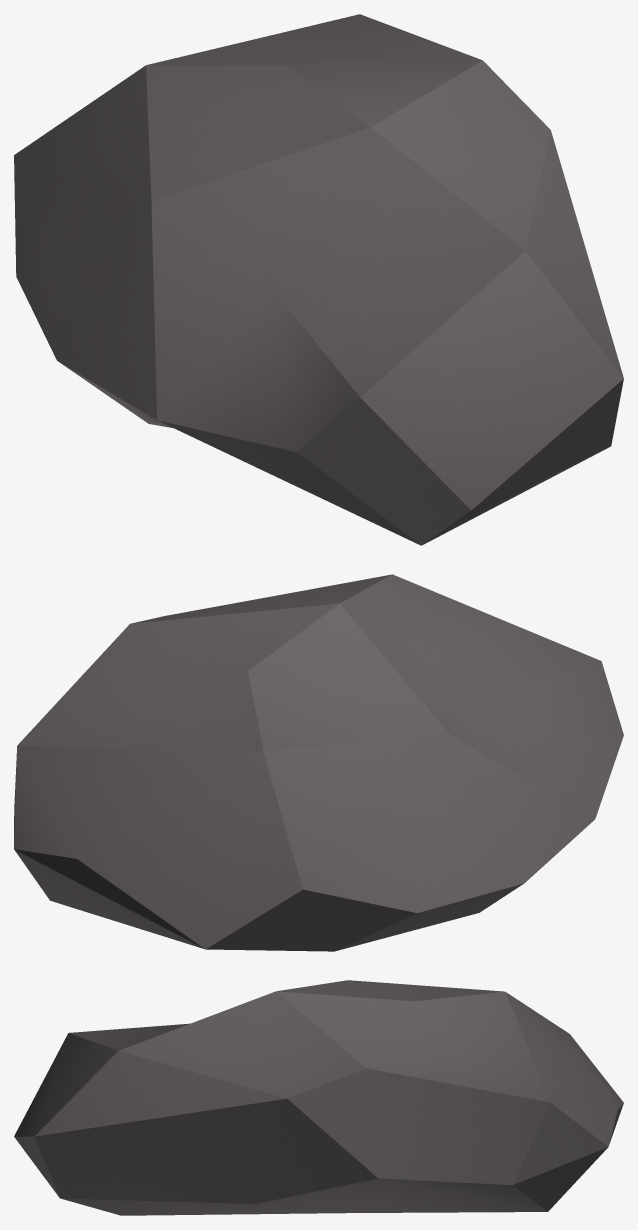
Rendered from Rocks06.fbx.
3 views of the same model, one above another, from view 1: azimuth 30°, elevation 25°; view 2: azimuth 150°, elevation 25°; view 3: azimuth 270°, elevation 25° (orthographic). The views are drawn at different scales.
Parts seen in each view (by area): view 1: Rock.006; view 2: Rock.006; view 3: Rock.006.
Boxes of the visible parts, x1,y1,x2,y2 form: Rock.006: [14, 14, 623, 545]; Rock.006: [14, 574, 623, 951]; Rock.006: [14, 980, 623, 1215].
Bounding box in the file's own units: 0.2527 × 0.1617 × 0.386.
